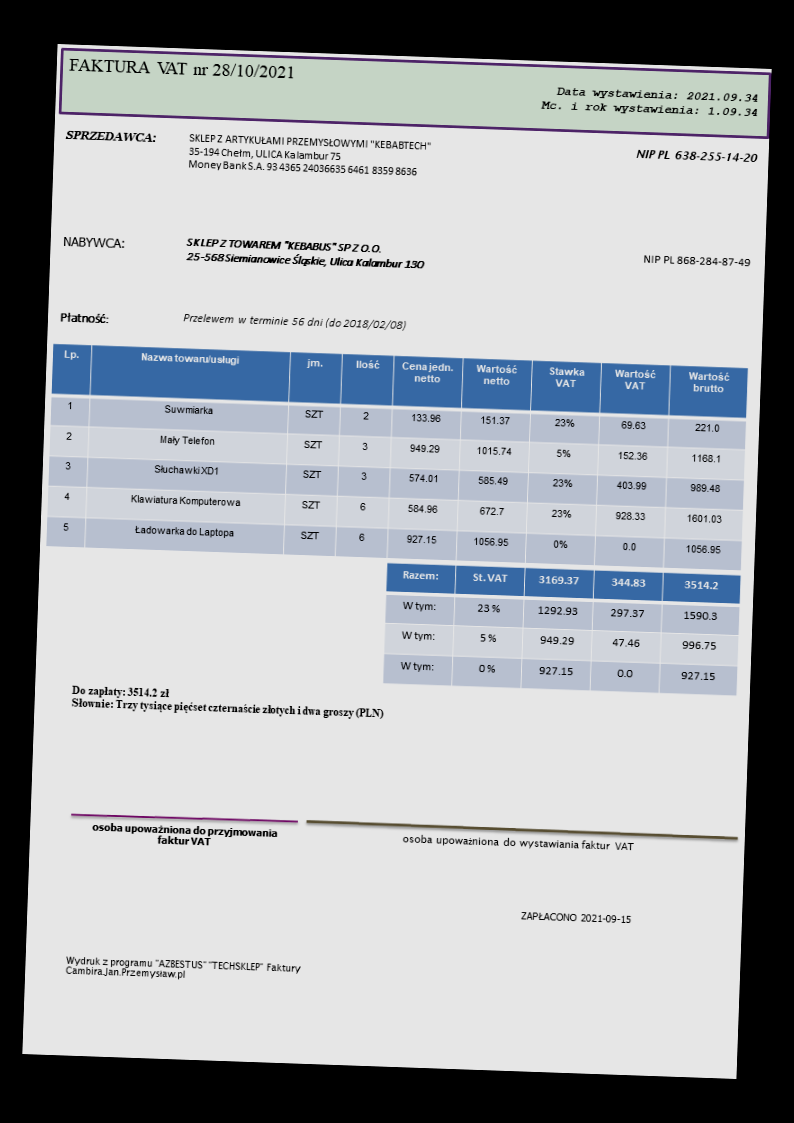Table: (44, 342, 750, 572), (381, 562, 742, 697)
TextBox: (185, 130, 433, 180), (68, 683, 385, 722), (183, 236, 426, 272), (538, 83, 760, 121), (63, 953, 303, 985), (66, 55, 296, 82), (89, 819, 281, 851), (181, 309, 407, 334), (400, 830, 635, 854), (633, 146, 759, 166), (518, 908, 631, 926), (641, 253, 752, 269), (63, 128, 158, 145), (60, 234, 126, 251), (58, 310, 111, 326)
